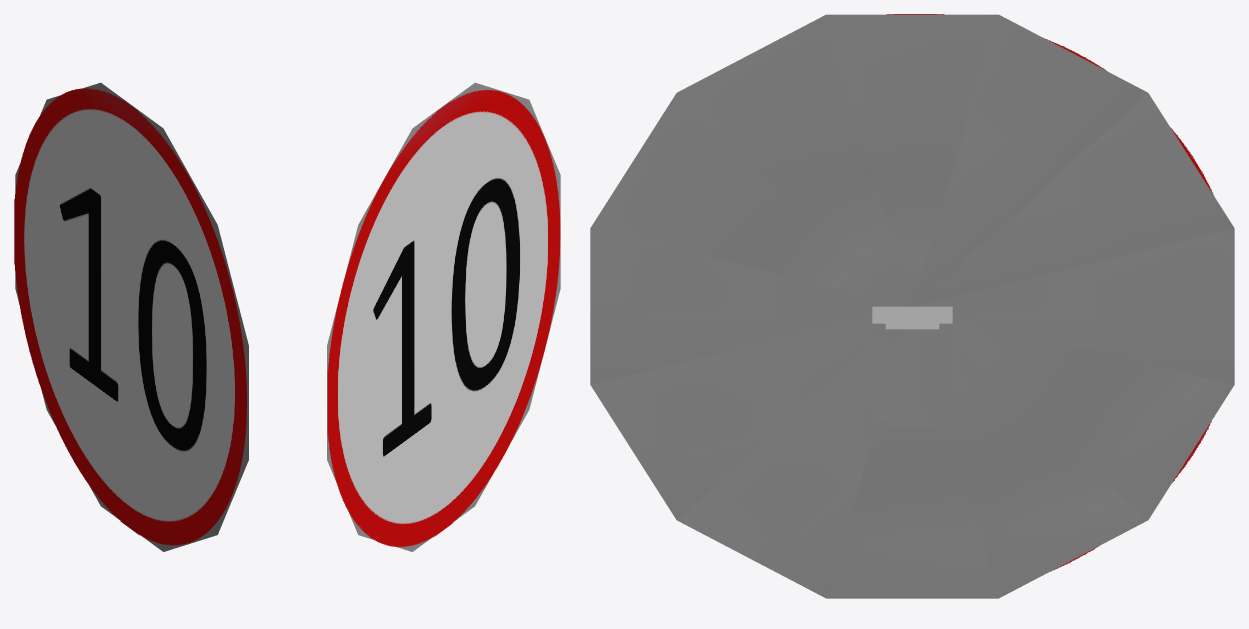
File: speed_10_medium.obj
The picture shows the model from 3 angles, left to right: view 1: azimuth 30°, elevation 25°; view 2: azimuth 150°, elevation 25°; view 3: azimuth 270°, elevation 25°; orthographic projection. The views are drawn at different scales.
Parts seen in each view (by area): view 1: cube, circle; view 2: cube, circle; view 3: circle, cube.
Part boxes in pixels (x1,y1,x2,y2): cube: (14, 88, 246, 545); circle: (15, 82, 248, 551); cube: (327, 89, 560, 547); circle: (327, 82, 560, 551); circle: (590, 14, 1234, 598); cube: (872, 14, 1214, 571).
Bounding box in the file's own units: 0.0641 × 0.75 × 0.75.
Materials: 2 (2 with a texture image).
